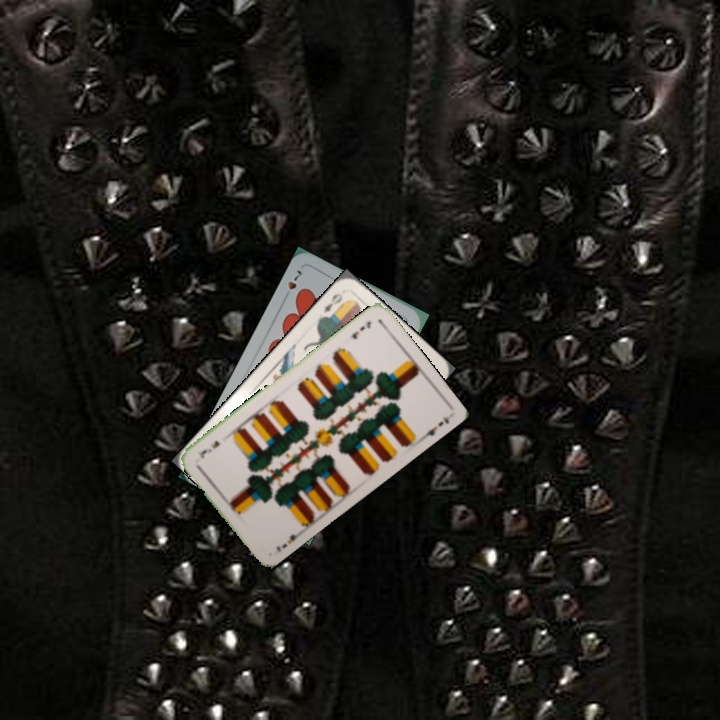E7: (272, 528, 304, 554), (347, 317, 374, 342)
EO: (319, 289, 345, 316)
H7: (280, 265, 305, 302)
